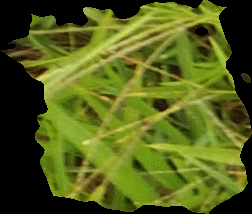grass: (1, 1, 250, 212)
